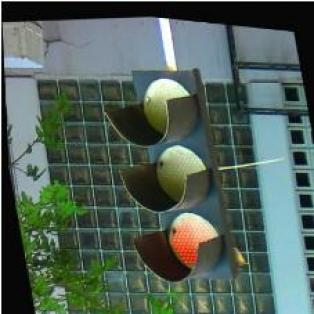Semaforo Rojo: (111, 56, 235, 286)
